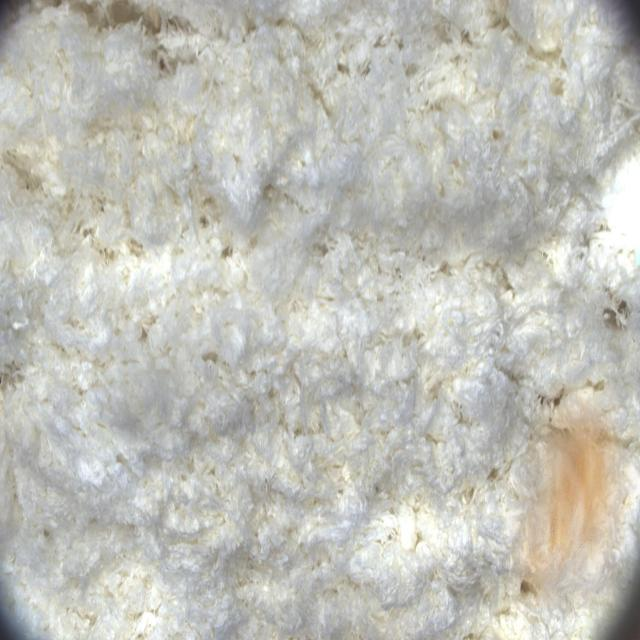dust: (503, 383, 640, 609)
